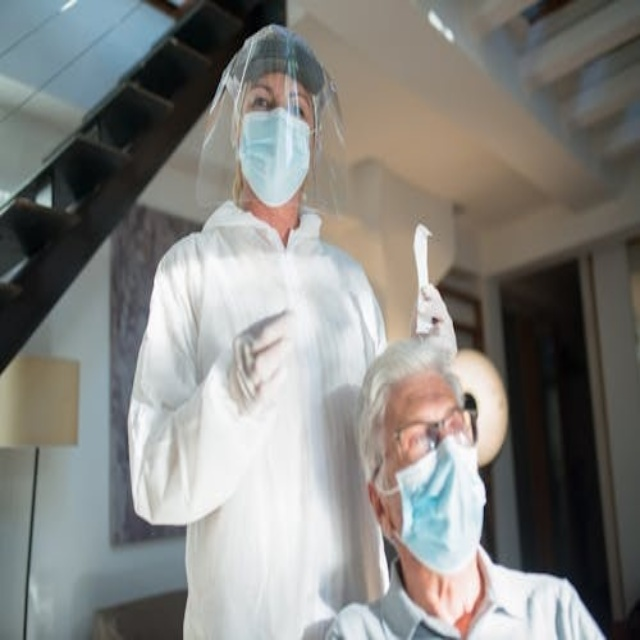Gafas: (376, 404, 475, 479)
Guantes: (228, 310, 293, 416), (413, 280, 456, 356)
Mascara: (385, 434, 486, 576), (237, 107, 312, 207)
Sin_gafas: (244, 86, 314, 119)
